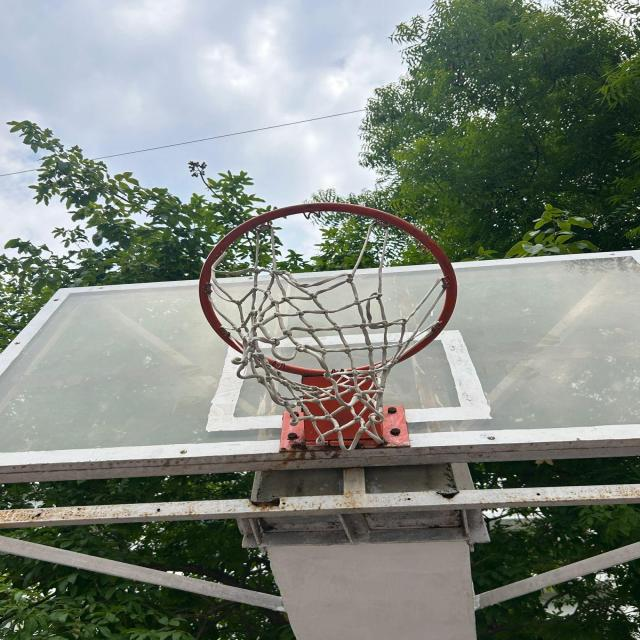hoop: (168, 196, 505, 481)
